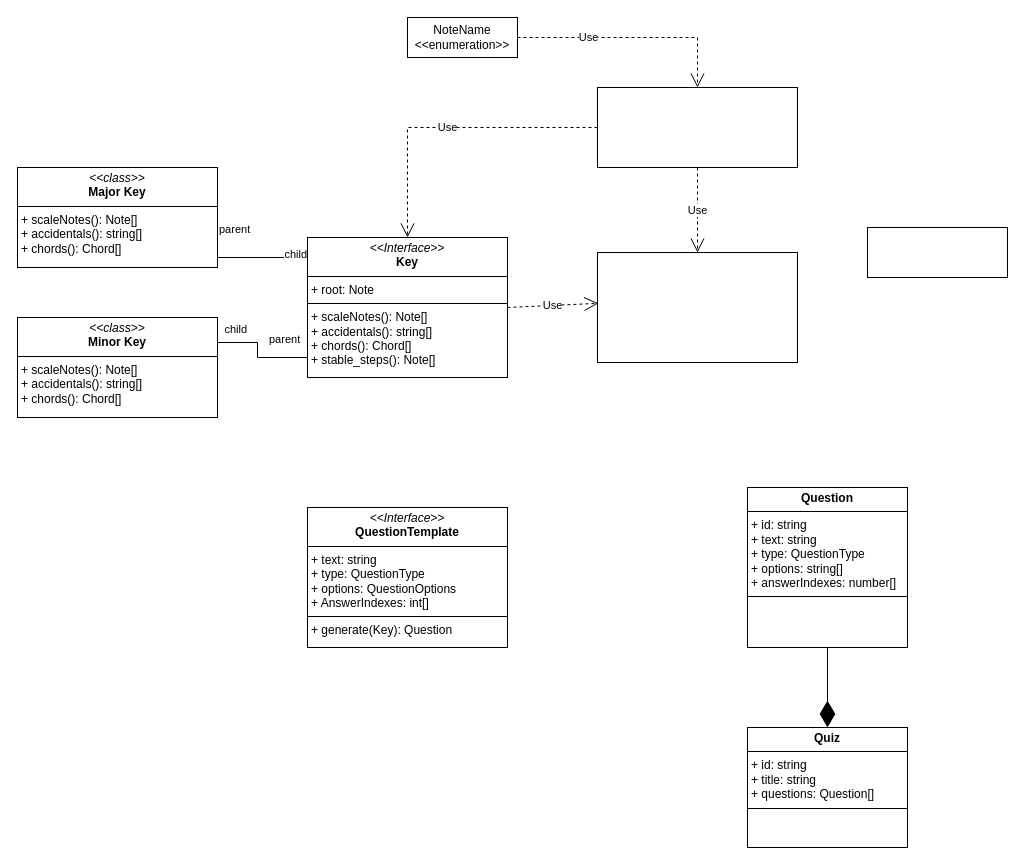
This 1025x865 diagram has some shape labels left out. Here are the shapes that lost their labels. From the top down, the centre of each, then its label:
At [697,127]: "<<interface>> Note + name: NoteName + enharmonic?: NoteName[]".
At [937,252]: "QuestionType: string".
At [697,307]: "<<Interface>> Chord + root: Note + intervals: int[] + getNotes(): Note []".
